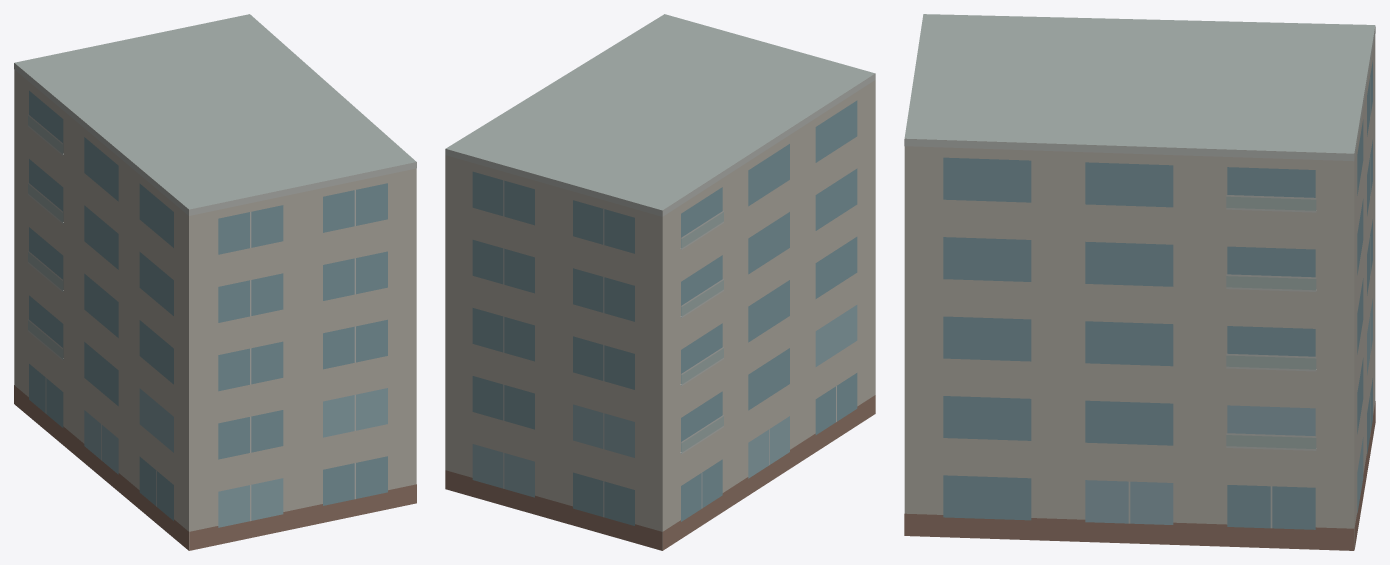
Rendered from survey-upis-32885316.glb.
3 renders of one model, left to right at view 1: azimuth 30°, elevation 25°; view 2: azimuth 150°, elevation 25°; view 3: azimuth 270°, elevation 25°, orthographic. The views are drawn at different scales.
Visible parts, largest first — view 1: survey-upis-32885316.tmp; view 2: survey-upis-32885316.tmp; view 3: survey-upis-32885316.tmp.
Part boxes in pixels (x1,y1,x2,y2): survey-upis-32885316.tmp: [14, 14, 416, 550]; survey-upis-32885316.tmp: [445, 14, 875, 550]; survey-upis-32885316.tmp: [904, 14, 1375, 550].
Size of the model in its own units: 9.78 by 12.95 by 13.93.
